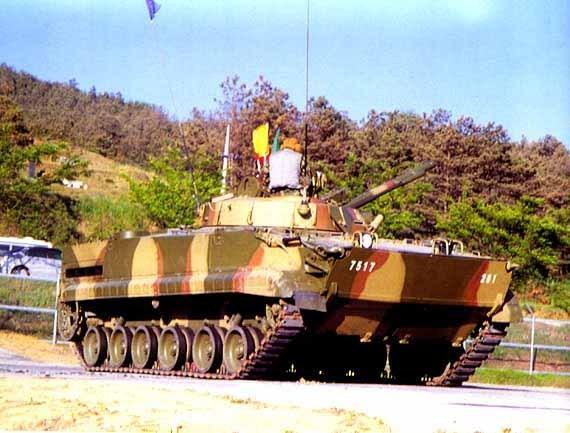MIL_IFV: (53, 128, 523, 389)
